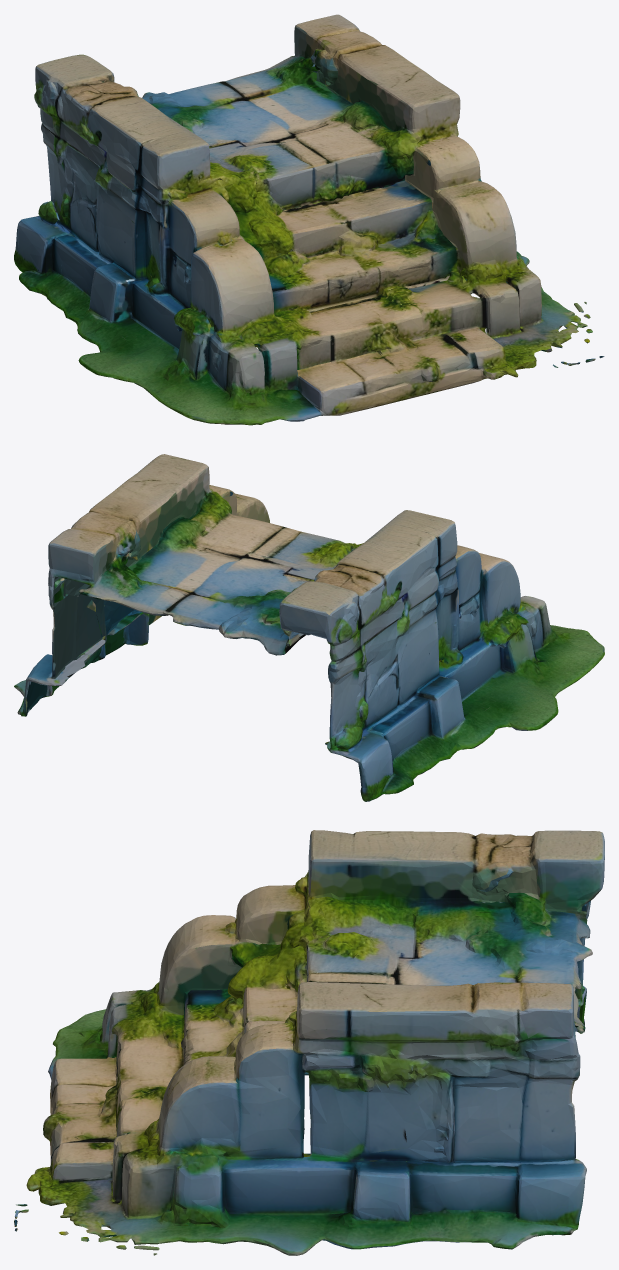
File: granite-step-modular-block-optimized.glb
3 renders of one model, top to bottom at view 1: azimuth 30°, elevation 25°; view 2: azimuth 150°, elevation 25°; view 3: azimuth 270°, elevation 25°, orthographic. The views are drawn at different scales.
Visible parts, largest first — view 1: e332d272-115f-4262-827a-95a6fee79dbe_texturing.obj; view 2: e332d272-115f-4262-827a-95a6fee79dbe_texturing.obj; view 3: e332d272-115f-4262-827a-95a6fee79dbe_texturing.obj.
Part boxes in pixels (box(x1,y1,x2,y2)): e332d272-115f-4262-827a-95a6fee79dbe_texturing.obj: box(14, 14, 604, 425); e332d272-115f-4262-827a-95a6fee79dbe_texturing.obj: box(14, 454, 604, 801); e332d272-115f-4262-827a-95a6fee79dbe_texturing.obj: box(14, 830, 604, 1255).
Bounding box in the file's own units: 3 × 1.28 × 2.96.
1 material, 1 textured.
